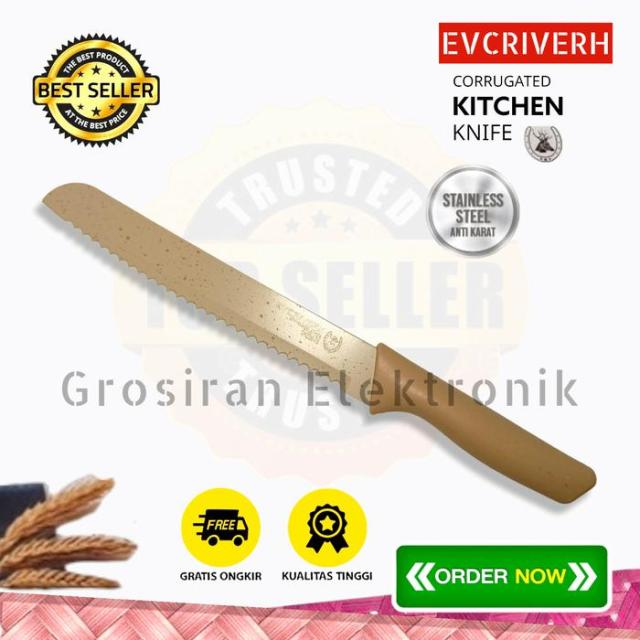Knife: (43, 183, 595, 502)
